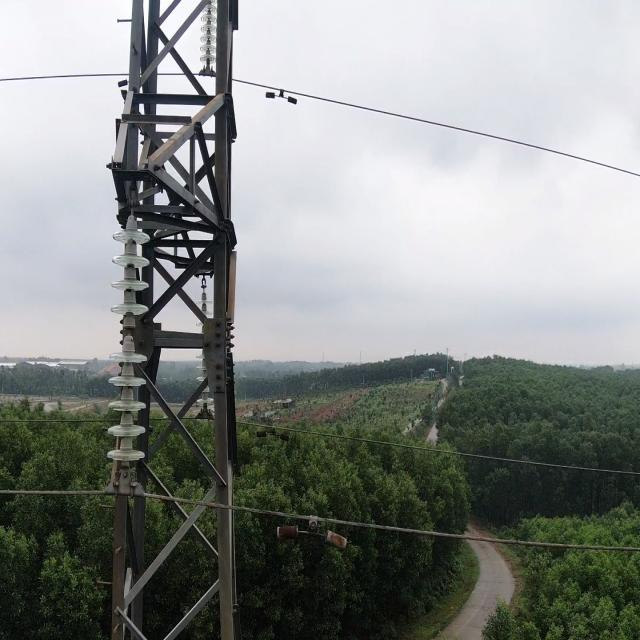杆塔: (106, 0, 253, 640)
正常电缆: (272, 81, 637, 184), (261, 497, 638, 562), (278, 417, 640, 484), (4, 57, 102, 93), (4, 477, 105, 502), (3, 409, 98, 435)
正常绝缘子: (110, 206, 147, 497), (194, 0, 220, 84)
绝缘子破损: (121, 322, 137, 344)
